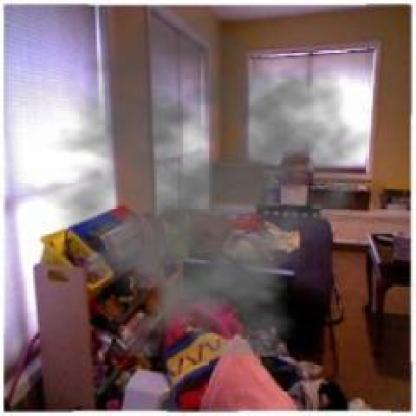Smoke: (18, 13, 377, 356)
